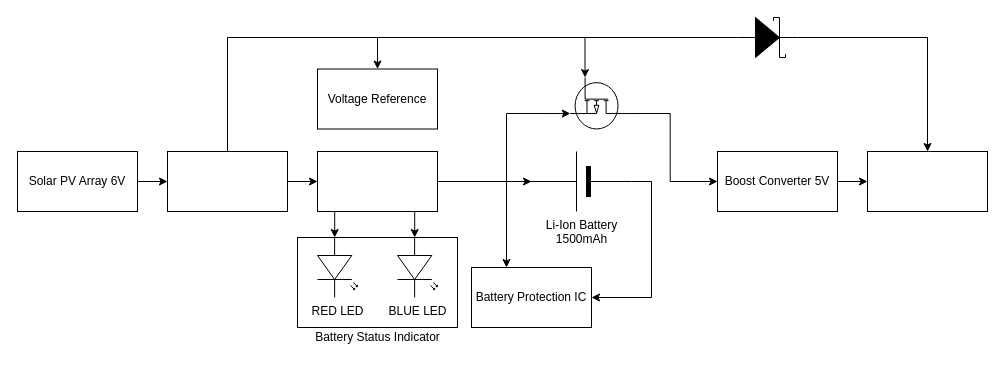
Some shapes in this 1005 by 365 pixel diagram are drawn without their labels. The shapes that lost their labels are listed below. From the top down, each one's centre as x and y in pixels, then its label:
At point 596,102: "P-MOSFET".
At point 227,181: "Buck Converter 5V".
At point 377,181: "Li-Ion Battery Charging Controller".
At point 927,181: "USB Adapter".
